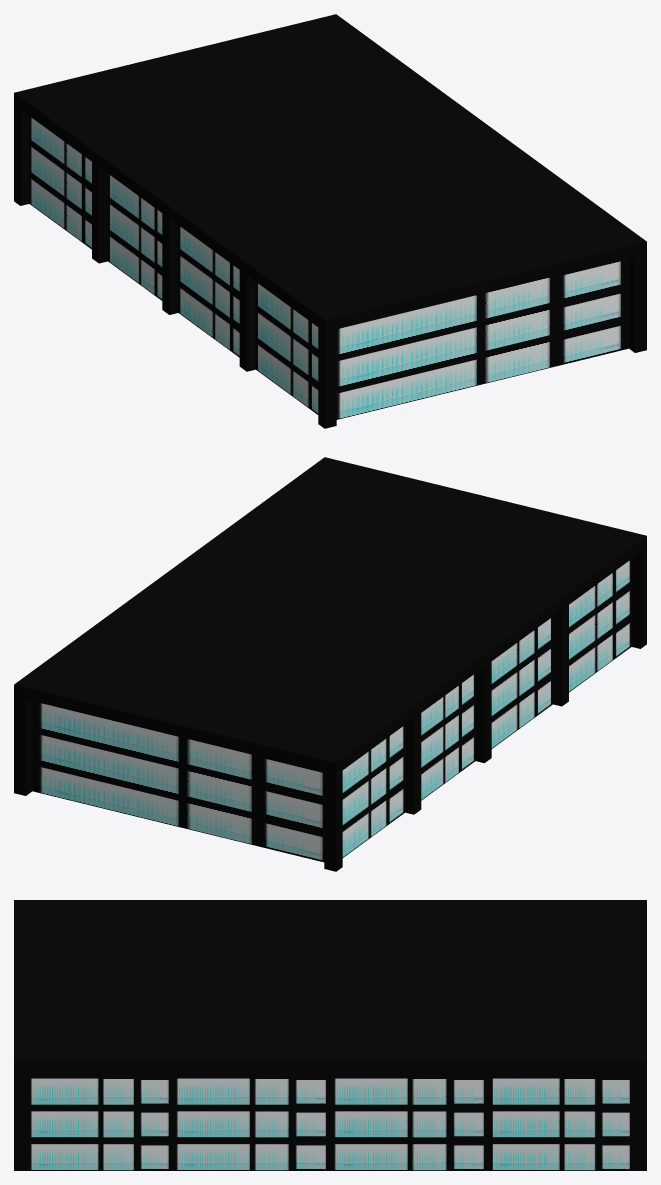
File: building33.FBX
The picture shows the model from 3 angles, top to bottom: view 1: azimuth 30°, elevation 25°; view 2: azimuth 150°, elevation 25°; view 3: azimuth 270°, elevation 25°; orthographic projection.
Visible parts, largest first — view 1: Box001; view 2: Box001; view 3: Box001.
Boxes of the visible parts, box(x1,y1,x2,y2) form: Box001: box(14, 14, 646, 428); Box001: box(14, 457, 646, 871); Box001: box(14, 900, 646, 1170).
Bounding box in the file's own units: 57.55 × 18.53 × 96.13.
